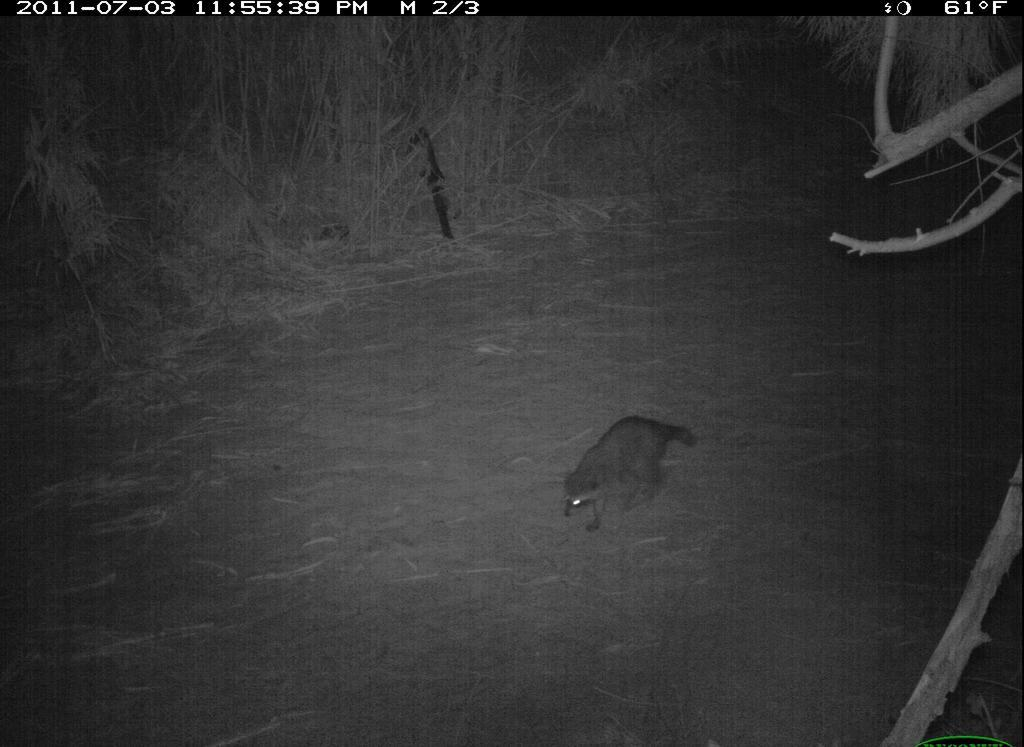raccoon: (557, 409, 701, 538)
